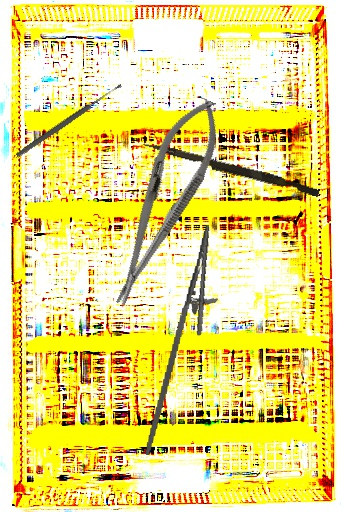Needle Holder: (94, 89, 234, 315), (143, 220, 229, 462)
Pusher: (141, 141, 321, 197)
Surgical Spoon: (14, 82, 124, 159)
